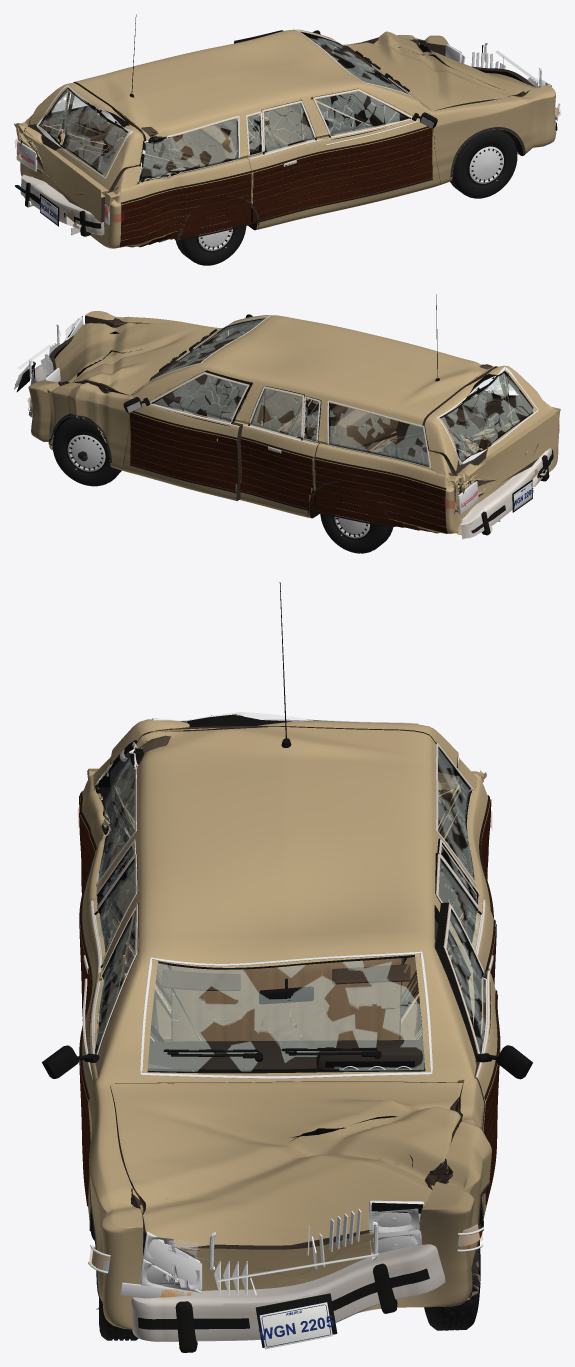
Rendered from wagon82_front_corner_d1.glb.
The picture shows the model from 3 angles, top to bottom: view 1: azimuth 30°, elevation 25°; view 2: azimuth 150°, elevation 25°; view 3: azimuth 270°, elevation 25°; orthographic projection. The views are drawn at different scales.
Parts seen in each view (by area): view 1: Body, Trim, Interior, Trim_FR, Tailgate, Hood, Trim_RR, Glass, Glass_Tailgate, Wheel_FR_mesh, Door_FR, Glass_FR (+5 smaller); view 2: Body, Trim, Interior, Hood, Tailgate, Trim_FL, Trim_RL, Glass_Tailgate, Glass, Door_FL, Wheel_FL_mesh, Bumper_R (+6 smaller); view 3: Body, Hood, Interior, Glass, Bumper_F, Ends, Tailgate, Trim, Door_FL, Trim_FL, Trim_FR, Door_FR (+9 smaller).
Part boxes in pixels (box(x1,y1,x2,y2)): Body: box(14, 29, 555, 248); Trim: box(71, 14, 525, 247); Interior: box(67, 45, 404, 189); Trim_FR: box(313, 89, 437, 205); Tailgate: box(18, 83, 143, 222); Hood: box(346, 31, 536, 110); Trim_RR: box(246, 101, 326, 222); Glass: box(52, 30, 420, 184); Glass_Tailgate: box(36, 85, 133, 178); Wheel_FR_mesh: box(450, 129, 517, 198); Door_FR: box(312, 88, 440, 212); Glass_FR: box(316, 89, 411, 139); Body: box(28, 311, 560, 534); Trim: box(48, 294, 500, 533); Interior: box(149, 336, 510, 513); Hood: box(55, 322, 220, 395); Tailgate: box(424, 365, 558, 506); Trim_FL: box(123, 372, 248, 493); Trim_RL: box(240, 386, 320, 510); Glass_Tailgate: box(436, 366, 538, 465); Glass: box(143, 316, 515, 465); Door_FL: box(123, 370, 251, 500); Wheel_FL_mesh: box(52, 416, 121, 486); Bumper_R: box(460, 448, 553, 539); Body: box(80, 727, 491, 1329); Hood: box(110, 1081, 462, 1250); Interior: box(148, 956, 424, 1069); Glass: box(94, 740, 474, 1078); Bumper_F: box(131, 1244, 445, 1352); Ends: box(88, 806, 483, 1349); Tailgate: box(110, 714, 458, 876); Trim: box(79, 582, 493, 1302); Door_FL: box(434, 902, 499, 1218); Trim_FL: box(444, 904, 532, 1204); Trim_FR: box(42, 905, 137, 1206); Door_FR: box(80, 903, 138, 1219).
Size of the model in its own units: 4.97 by 2.18 by 2.14.
Materials: 35 (6 with a texture image).
